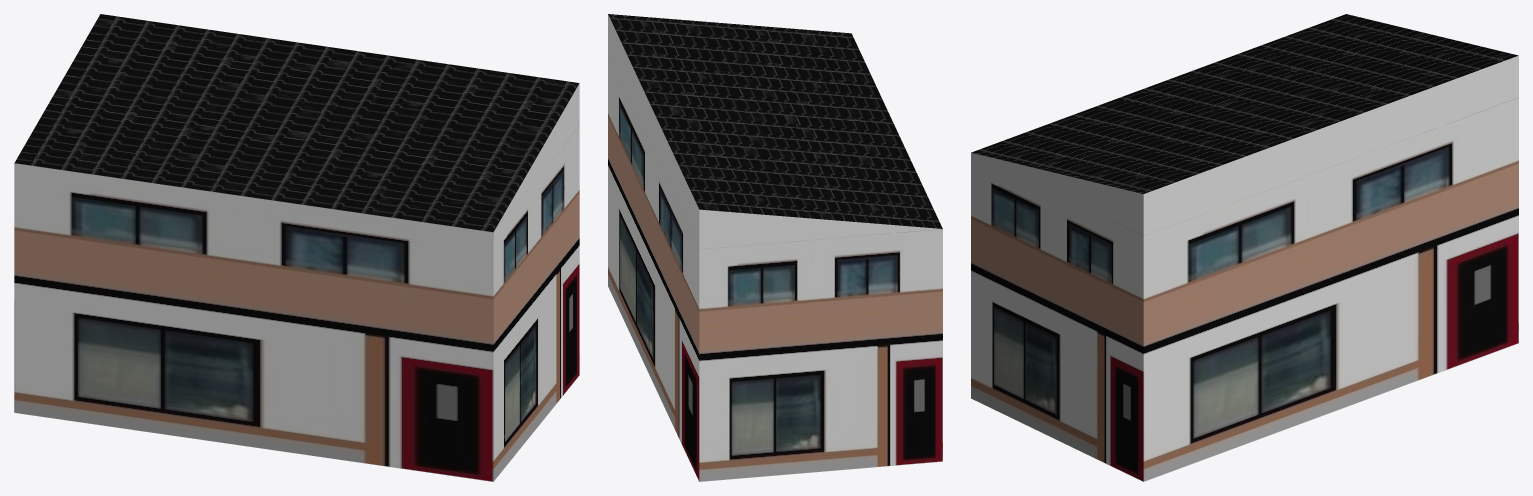
3 renders of one model, left to right at view 1: azimuth 30°, elevation 25°; view 2: azimuth 150°, elevation 25°; view 3: azimuth 270°, elevation 25°, orthographic. The views are drawn at different scales.
Visible parts, largest first — view 1: CityEngineMaterial_5_m, CityEngineMaterial_14_m, CityEngineMaterial_3_m; view 2: CityEngineMaterial_5_m, CityEngineMaterial_14_m, CityEngineMaterial_3_m; view 3: CityEngineMaterial_5_m, CityEngineMaterial_14_m, CityEngineMaterial_3_m.
Boxes of the visible parts, x1=… form: CityEngineMaterial_5_m: x1=14, y1=126, x2=579, y2=481; CityEngineMaterial_14_m: x1=14, y1=14, x2=579, y2=232; CityEngineMaterial_3_m: x1=494, y1=83, x2=579, y2=230; CityEngineMaterial_5_m: x1=608, y1=54, x2=942, y2=481; CityEngineMaterial_14_m: x1=608, y1=14, x2=942, y2=228; CityEngineMaterial_3_m: x1=608, y1=14, x2=940, y2=249; CityEngineMaterial_5_m: x1=971, y1=97, x2=1518, y2=481; CityEngineMaterial_14_m: x1=971, y1=14, x2=1518, y2=193; CityEngineMaterial_3_m: x1=971, y1=55, x2=1518, y2=235.
Bounding box in the file's own units: 16.82 × 10.16 × 17.54.
